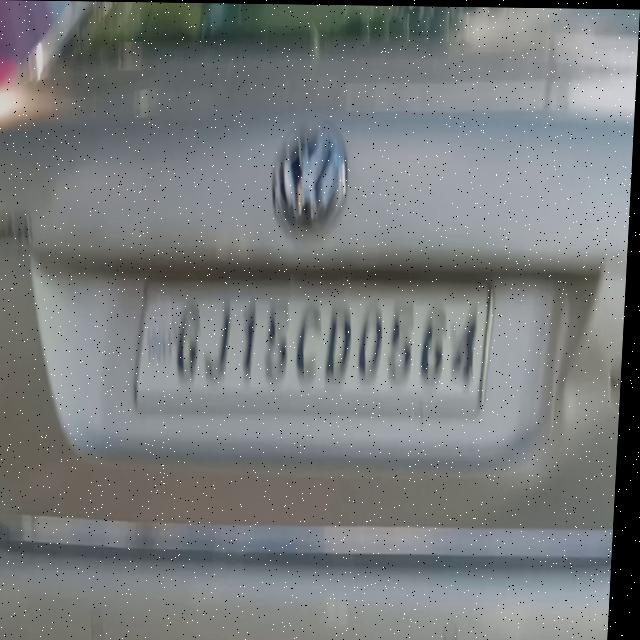plate: (135, 277, 500, 424)
